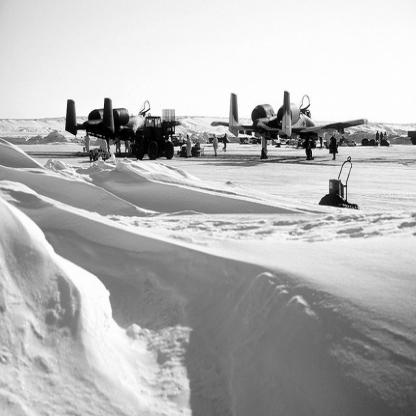A10: (211, 91, 369, 159), (66, 99, 182, 155)
